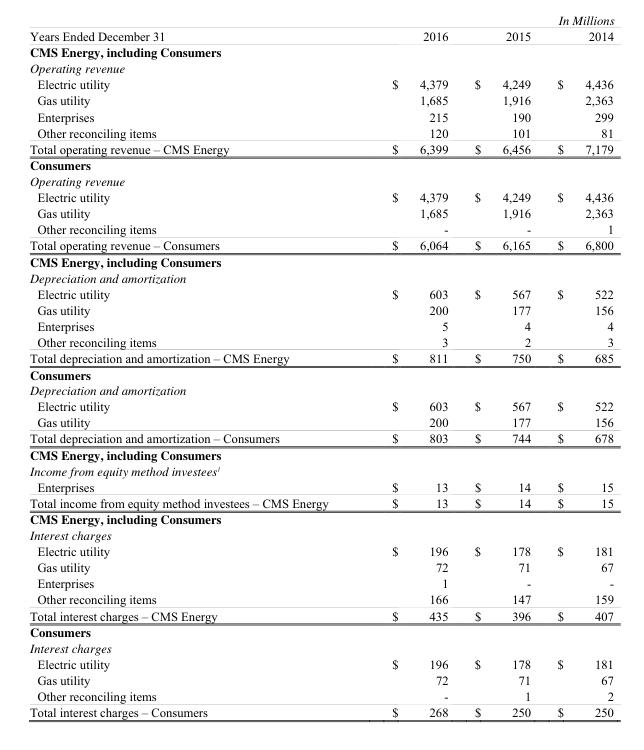table: (28, 28, 613, 718)
table column: (28, 28, 359, 718), (359, 28, 460, 718), (460, 28, 543, 718), (543, 28, 613, 718)
table column header: (28, 28, 613, 42)
table projected row header: (28, 42, 613, 60), (28, 155, 613, 173), (28, 445, 613, 463), (28, 509, 613, 527), (28, 622, 613, 640), (28, 252, 613, 269), (28, 365, 613, 382), (28, 60, 613, 76), (28, 173, 613, 189), (28, 269, 613, 285), (28, 382, 613, 398), (28, 527, 613, 543), (28, 463, 613, 478), (28, 640, 613, 655)
table row: (28, 42, 613, 60), (28, 155, 613, 173), (28, 445, 613, 463), (28, 509, 613, 527), (28, 622, 613, 640), (28, 252, 613, 269), (28, 365, 613, 382), (28, 558, 613, 575), (28, 60, 613, 76), (28, 76, 613, 92), (28, 92, 613, 108), (28, 108, 613, 124), (28, 124, 613, 140), (28, 173, 613, 189), (28, 204, 613, 220), (28, 220, 613, 236), (28, 236, 613, 252), (28, 269, 613, 285), (28, 285, 613, 301), (28, 301, 613, 317), (28, 317, 613, 333), (28, 333, 613, 349), (28, 349, 613, 365), (28, 382, 613, 398), (28, 398, 613, 414), (28, 414, 613, 430), (28, 478, 613, 494), (28, 527, 613, 543), (28, 575, 613, 591), (28, 591, 613, 607), (28, 655, 613, 671), (28, 671, 613, 687), (28, 687, 613, 703), (28, 140, 613, 155), (28, 189, 613, 204), (28, 430, 613, 445), (28, 463, 613, 478), (28, 494, 613, 509), (28, 543, 613, 558), (28, 607, 613, 622), (28, 640, 613, 655), (28, 703, 613, 718), (28, 28, 613, 42)
